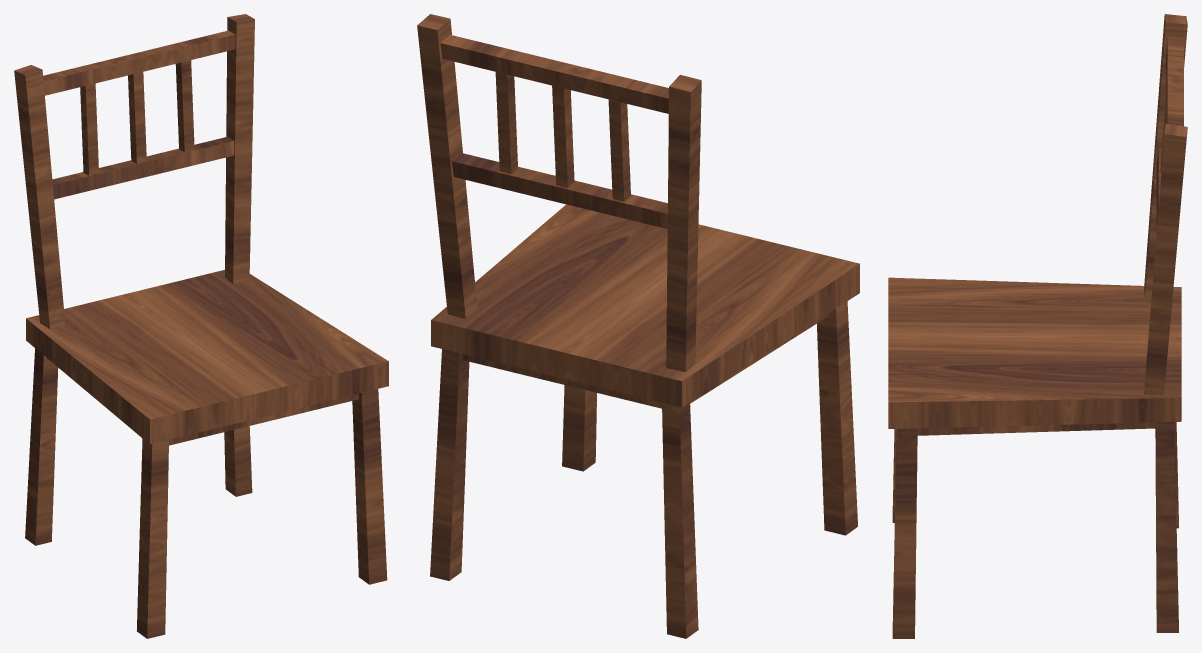
Rendered from Chair.glb.
3 views of the same model, side by side, from view 1: azimuth 30°, elevation 25°; view 2: azimuth 150°, elevation 25°; view 3: azimuth 270°, elevation 25° (orthographic). The views are drawn at different scales.
Visible parts, largest first — view 1: Chair; view 2: Chair; view 3: Chair.
Part boxes in pixels (bbox=[...]): Chair: bbox=[14, 14, 388, 638]; Chair: bbox=[417, 14, 859, 638]; Chair: bbox=[888, 14, 1187, 638].
Size of the model in its own units: 2.01 by 3.76 by 2.03.
Materials: 1 (1 with a texture image).
